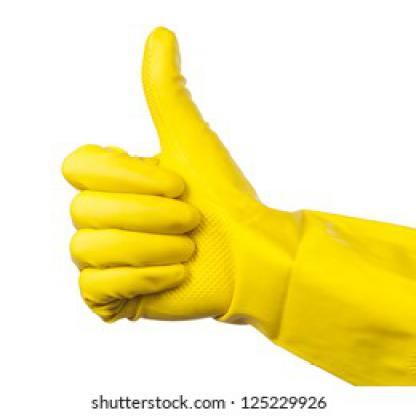with_gloves: (63, 22, 414, 388)
